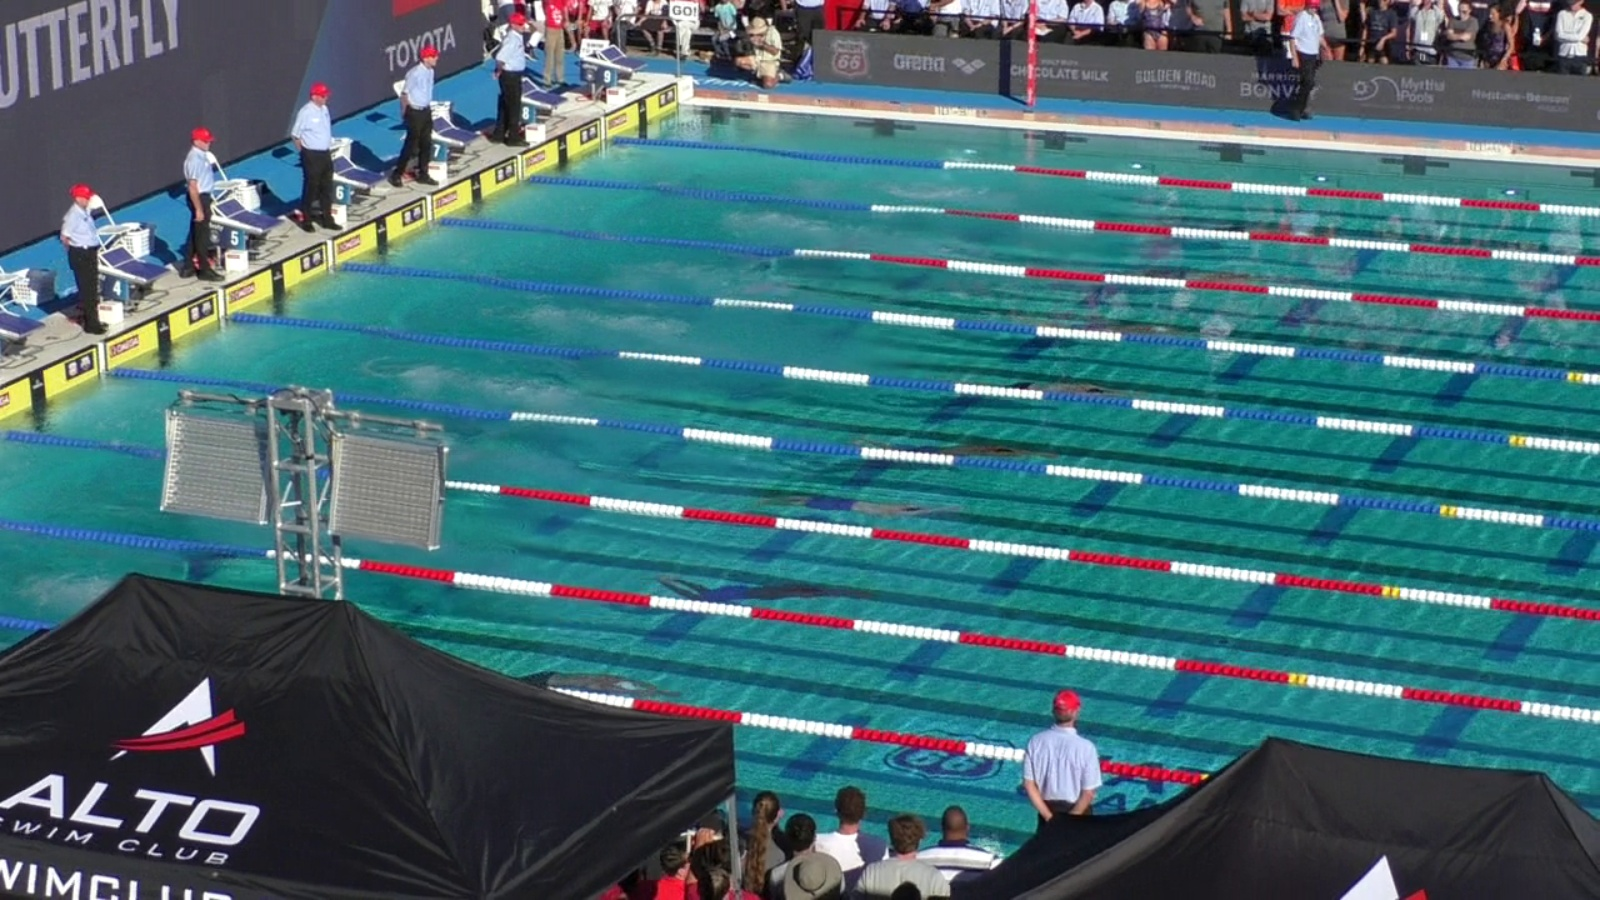swimmerw: (510, 663, 674, 705), (655, 579, 843, 600), (762, 493, 953, 512), (977, 377, 1119, 399), (885, 440, 1023, 456), (1124, 268, 1254, 284), (1069, 327, 1191, 343), (1211, 222, 1305, 242)
